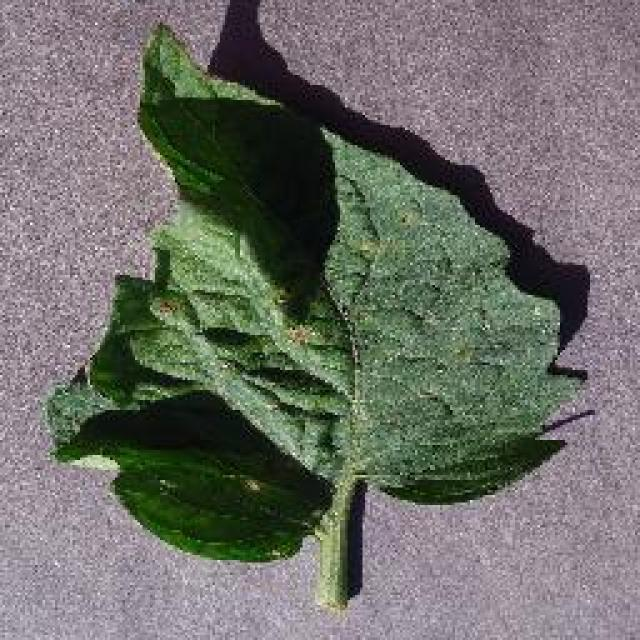Tomato Septoria spot leaf: (42, 18, 588, 570)
